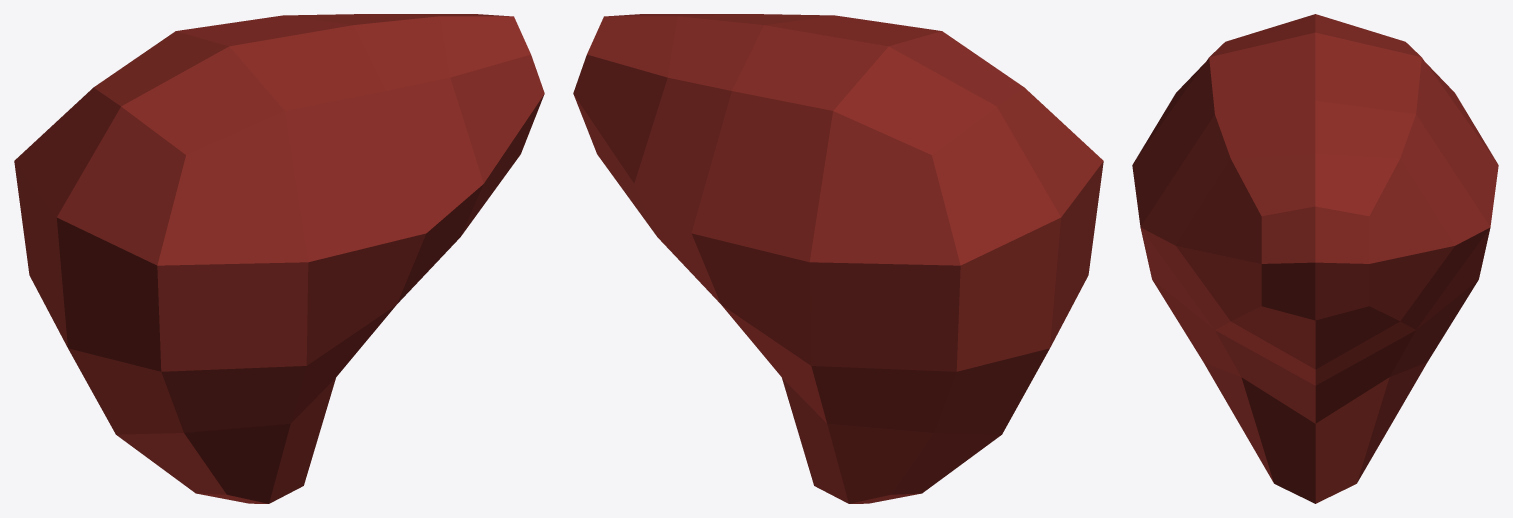
Rendered from liver.gltf.
3 views of the same model, side by side, from view 1: azimuth 30°, elevation 25°; view 2: azimuth 150°, elevation 25°; view 3: azimuth 270°, elevation 25° (orthographic). The views are drawn at different scales.
Parts seen in each view (by area): view 1: liver; view 2: liver; view 3: liver.
Part boxes in pixels (<box>): liver: <box>14,14,544,503</box>; liver: <box>573,14,1103,503</box>; liver: <box>1132,14,1498,503</box>.
Bounding box in the file's own units: 119 × 110 × 81.4.
